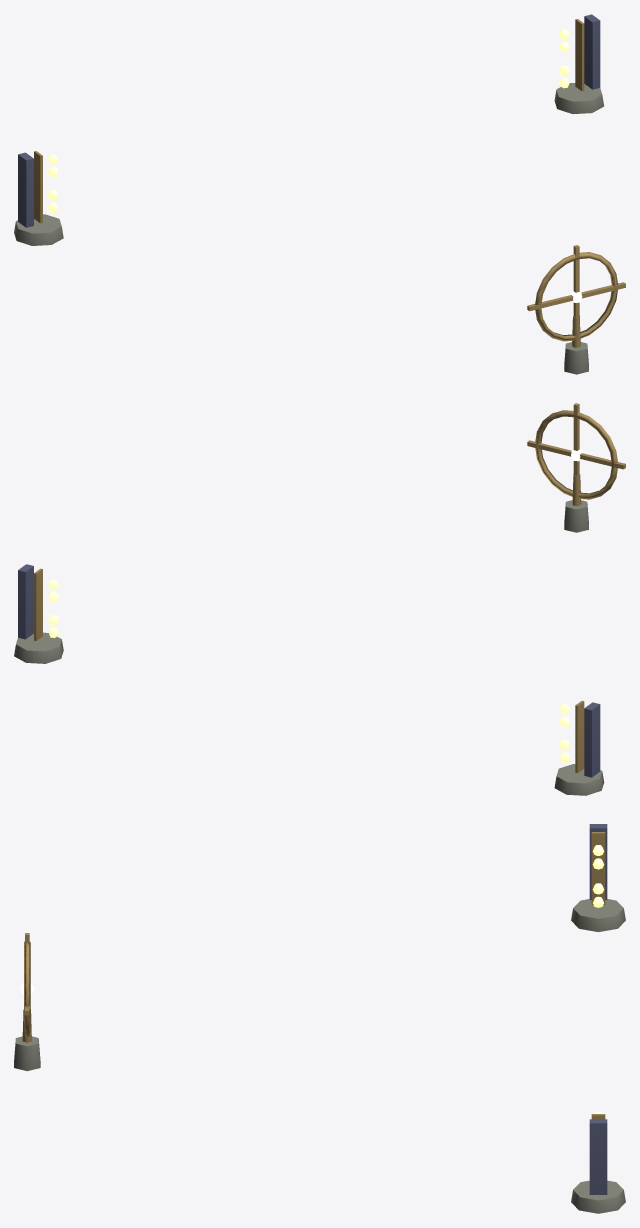
Rendered from landmark-r8-repeat-gate-far.glb.
The picture shows the model from 3 angles, top to bottom: view 1: azimuth 30°, elevation 25°; view 2: azimuth 150°, elevation 25°; view 3: azimuth 270°, elevation 25°; orthographic projection. The views are drawn at different scales.
Parts seen in each view (by area): view 1: Static_far, Lantern_far; view 2: Static_far, Lantern_far; view 3: Static_far.
Part boxes in pixels (x1,y1,x2,y2): Static_far: (14, 14, 625, 374); Lantern_far: (48, 29, 569, 212); Static_far: (14, 403, 625, 795); Lantern_far: (48, 579, 570, 762); Static_far: (14, 824, 625, 1213).
Size of the model in its own units: 136 by 27.25 by 116.
